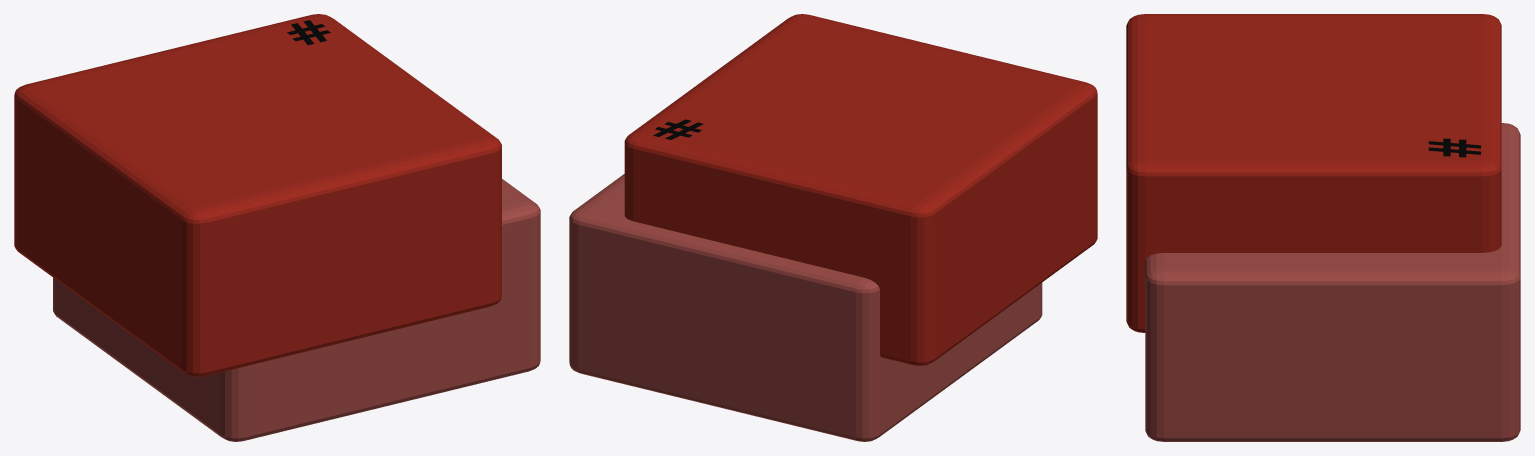
Rendered from Sub_Highlight_Hashtag.dae.
3 renders of one model, left to right at view 1: azimuth 30°, elevation 25°; view 2: azimuth 150°, elevation 25°; view 3: azimuth 270°, elevation 25°, orthographic. The views are drawn at different scales.
Visible parts, largest first — view 1: Cube, Plane; view 2: Cube, Plane; view 3: Cube, Plane.
Part boxes in pixels (left/top/right/bottom): Cube: left=14, top=14, right=540, bottom=441; Plane: left=287, top=20, right=330, bottom=45; Cube: left=569, top=14, right=1097, bottom=441; Plane: left=653, top=119, right=703, bottom=139; Cube: left=1126, top=14, right=1520, bottom=441; Plane: left=1428, top=138, right=1480, bottom=157.
Bounding box in the file's own units: 2.3 × 2.1 × 1.5.
3 materials, 1 textured.
